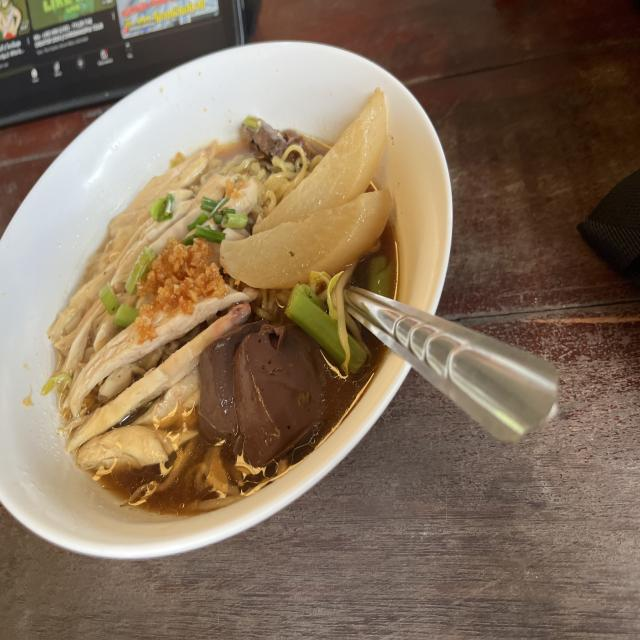noodle: (40, 80, 434, 526)
